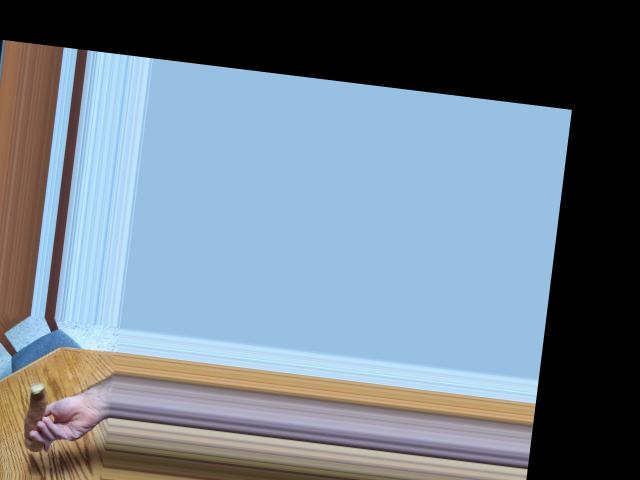sweet_potato: (20, 380, 56, 454)
